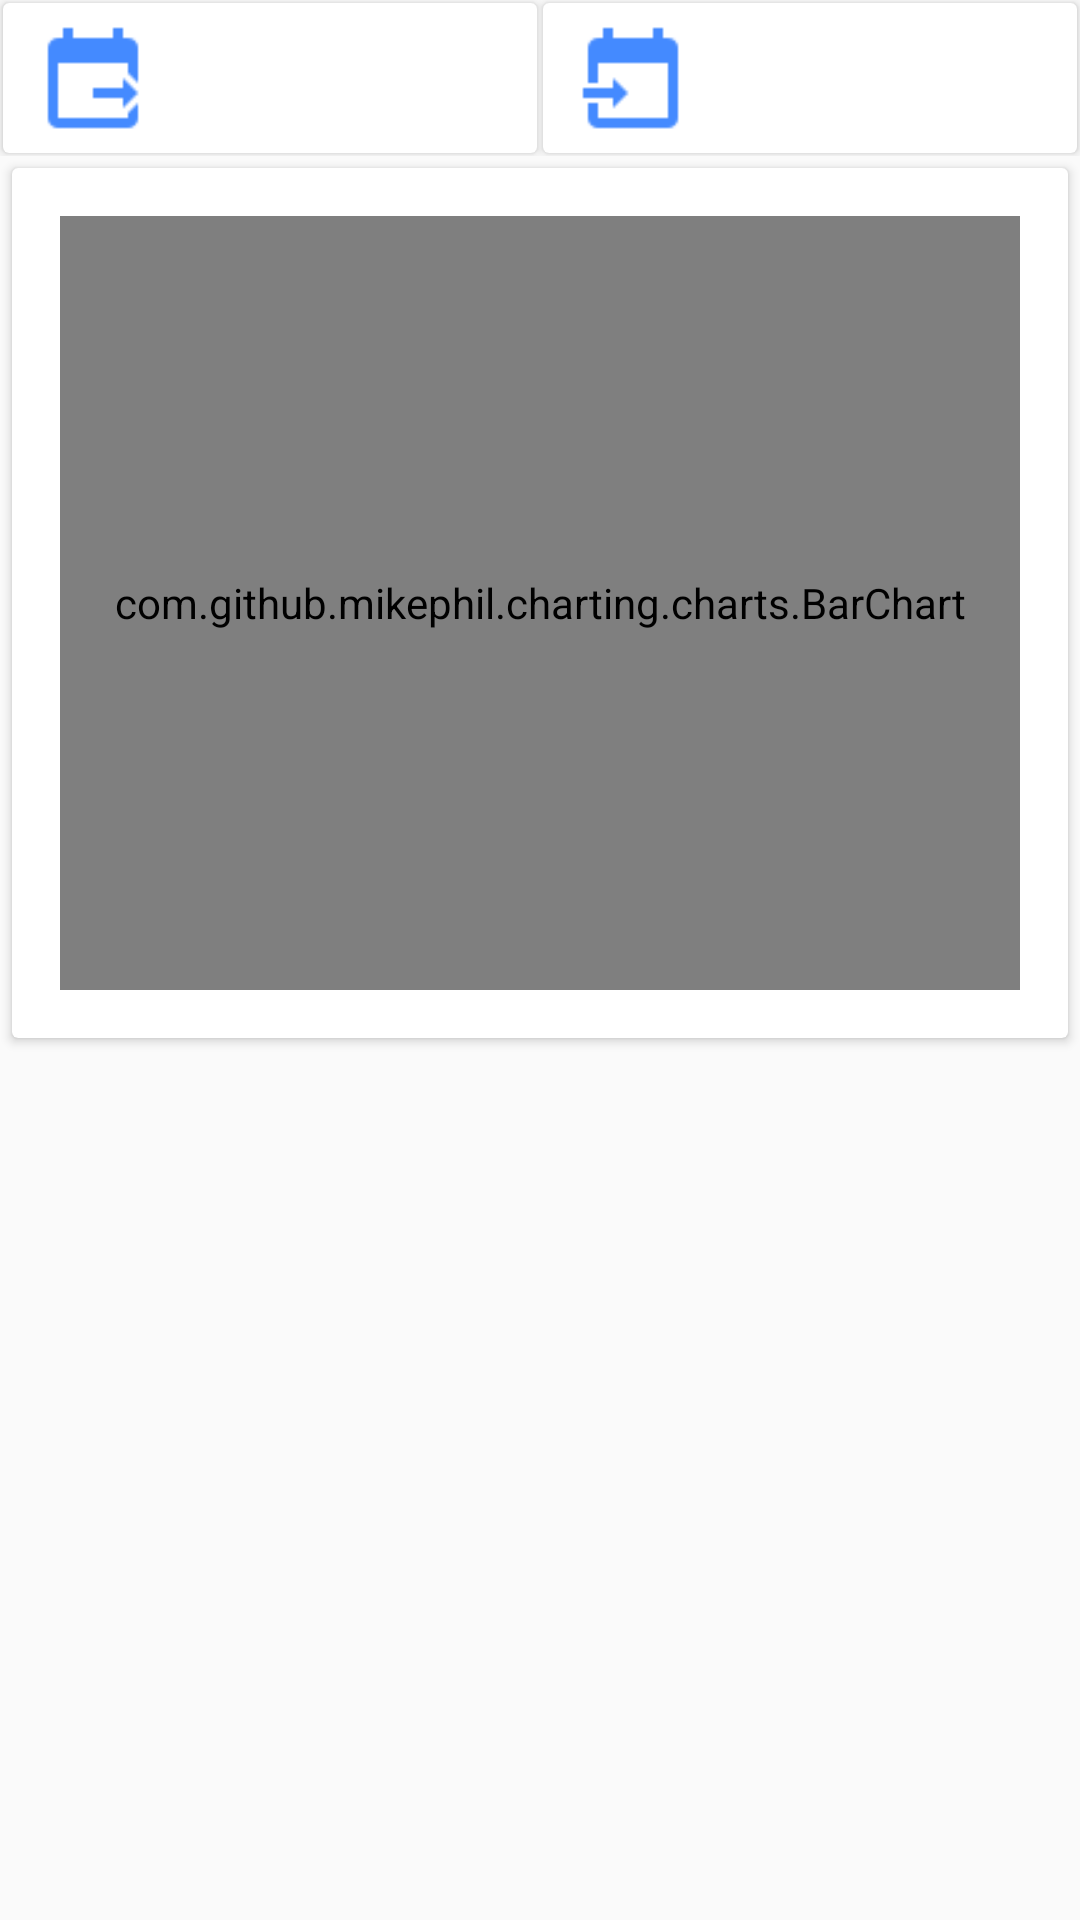

Screen size 1080px×1920px. Icon name, then its box in pixels as [left=x1, top=y1, right=x2, bottom=y2]:
date from: [left=47, top=27, right=139, bottom=129]
date to: [left=582, top=27, right=679, bottom=129]
